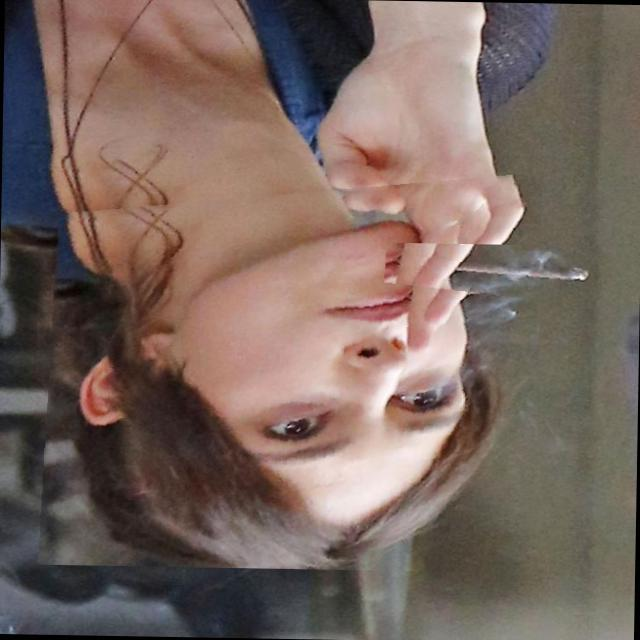cigarette: (384, 243, 618, 309)
